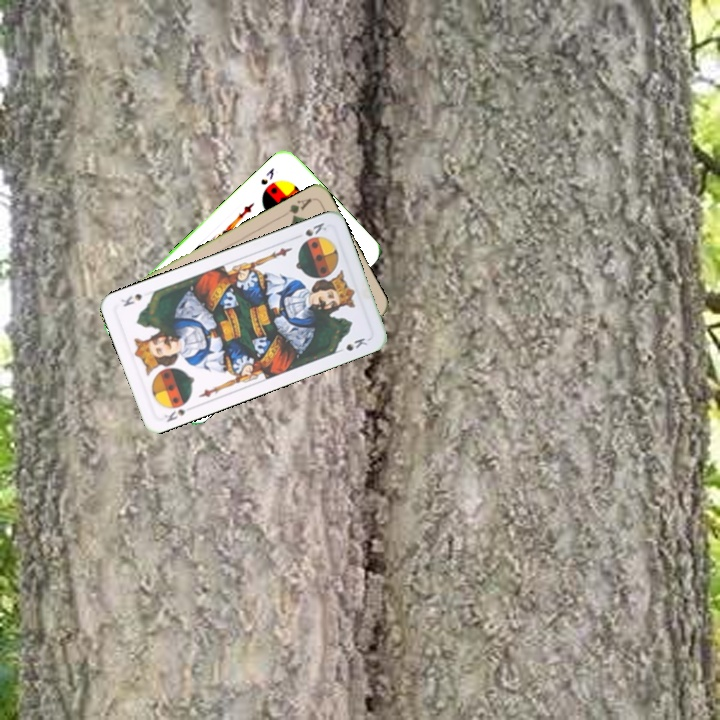GA: (278, 194, 314, 222)
SK: (301, 218, 329, 239), (160, 405, 188, 425), (257, 163, 277, 188)
